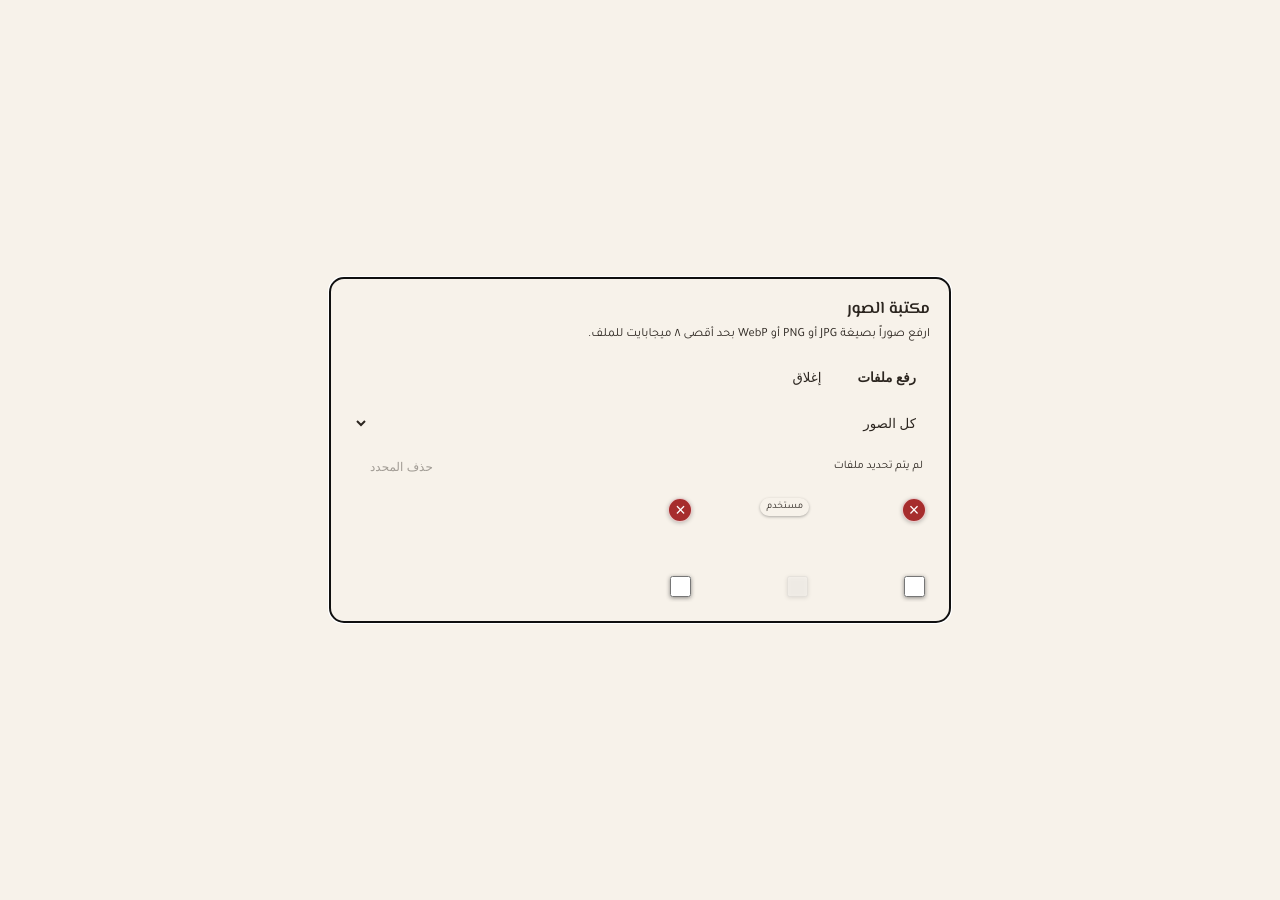
Scenario: AssetLibrary — delete › does nothing when the confirmation is declined
The width and height of the screenshot is (1280, 900).
Step 1. Click the 2nd button titled "حذف الصورة من المكتبة" → (914, 510), box [902,498,926,522]
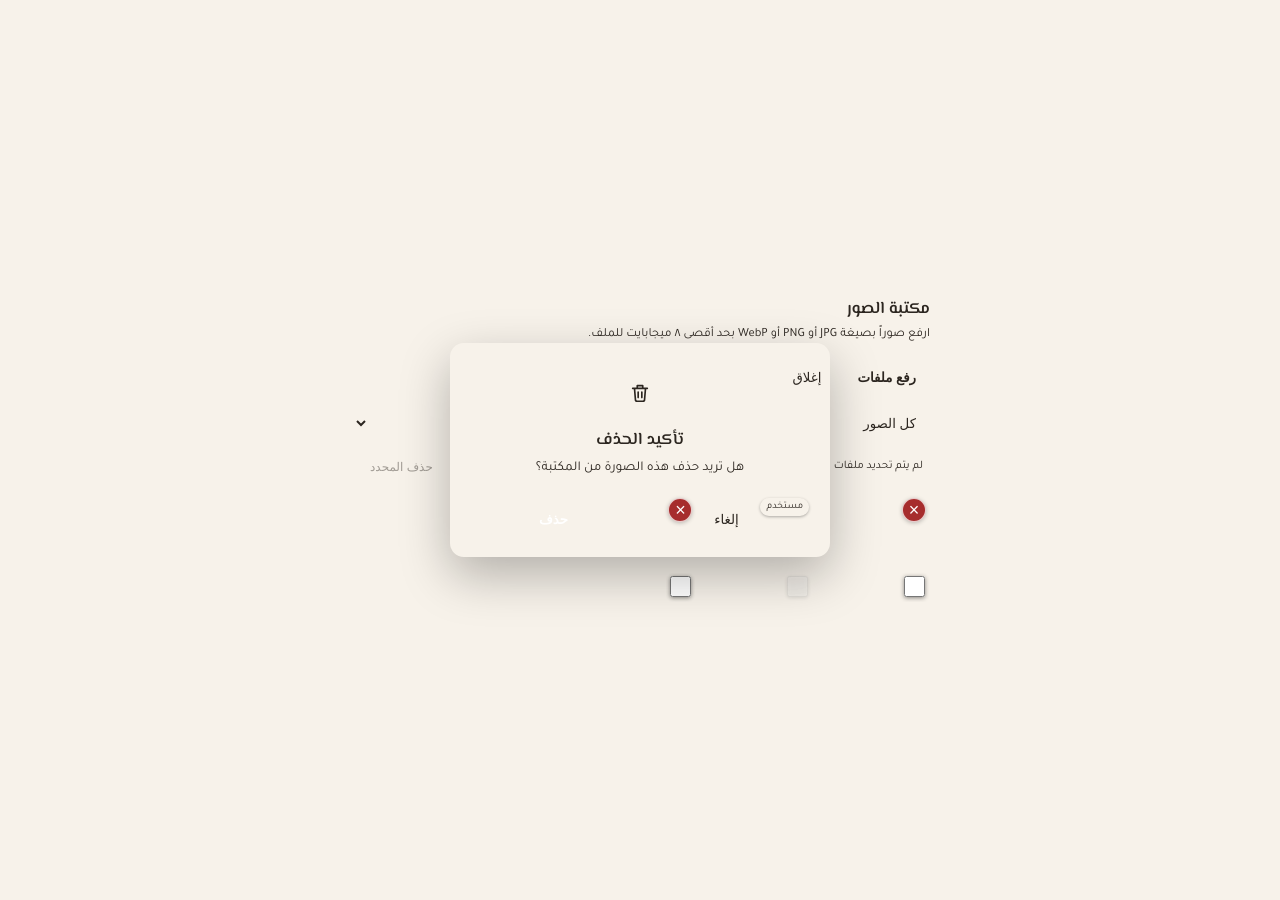
Step 2. Click the button "إلغاء" → (726, 520), box [645,502,808,537]
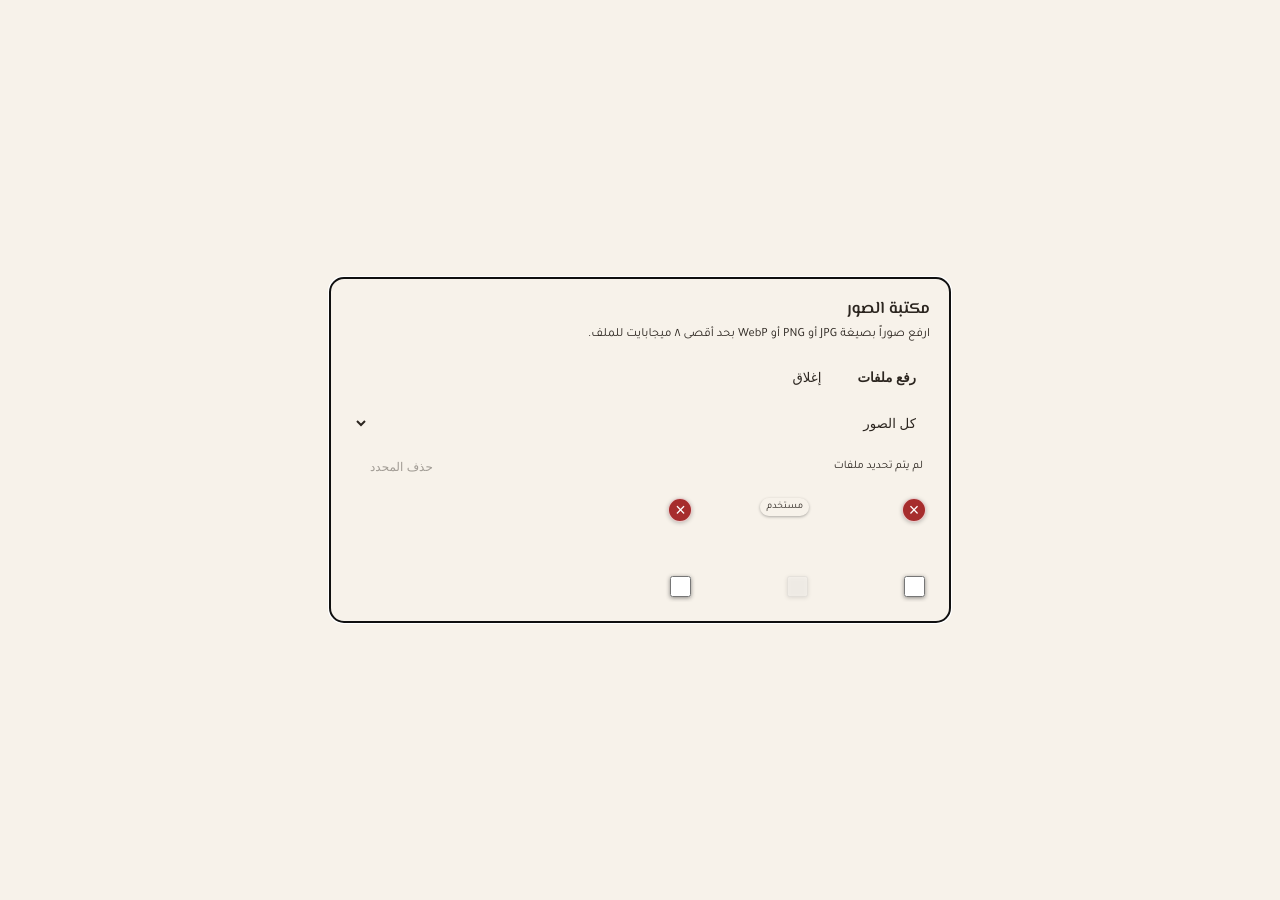
expect the dialog "تأكيد الحذف هل تريد حذف هذه الصورة من المكتبة؟ إلغاء حذف" is gone: met
